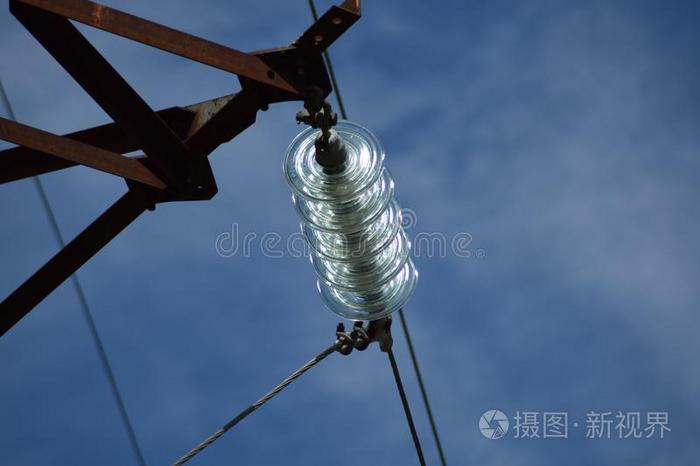insulator: (285, 122, 419, 318)
